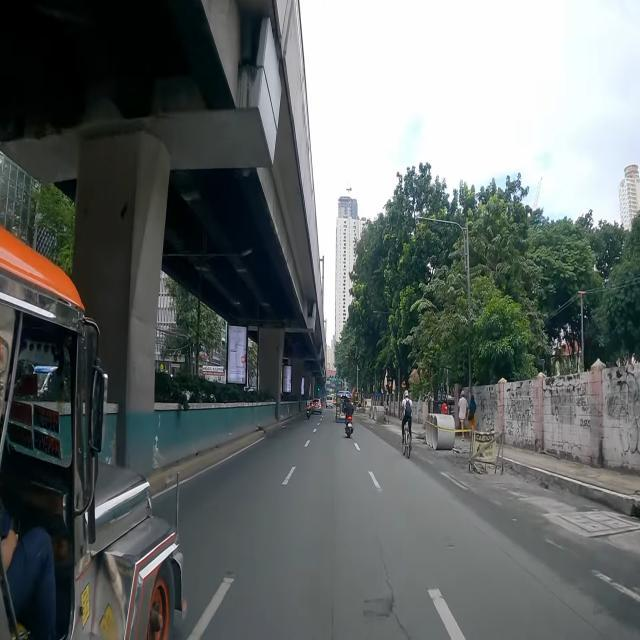bike: (401, 388, 412, 458)
car: (312, 399, 322, 414)
jeepney: (0, 226, 186, 640), (335, 391, 352, 423)
motorcycle: (343, 398, 354, 438), (306, 398, 311, 420)
